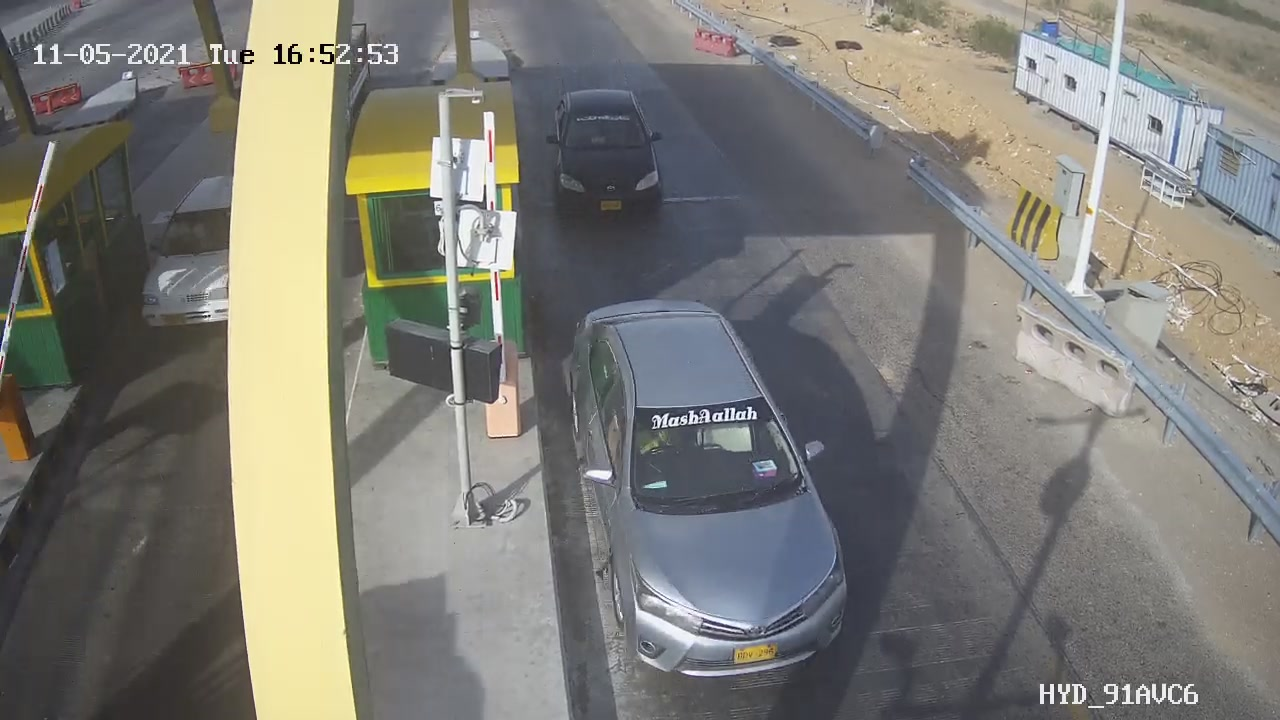F1: (534, 72, 685, 240)
